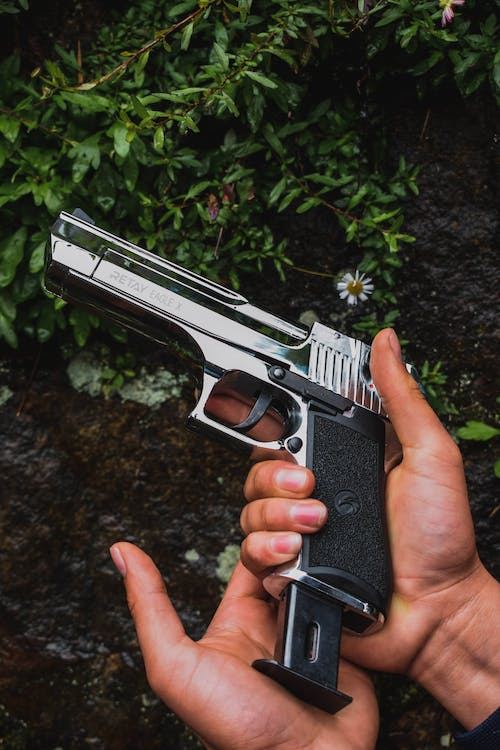gun: (41, 202, 422, 720)
